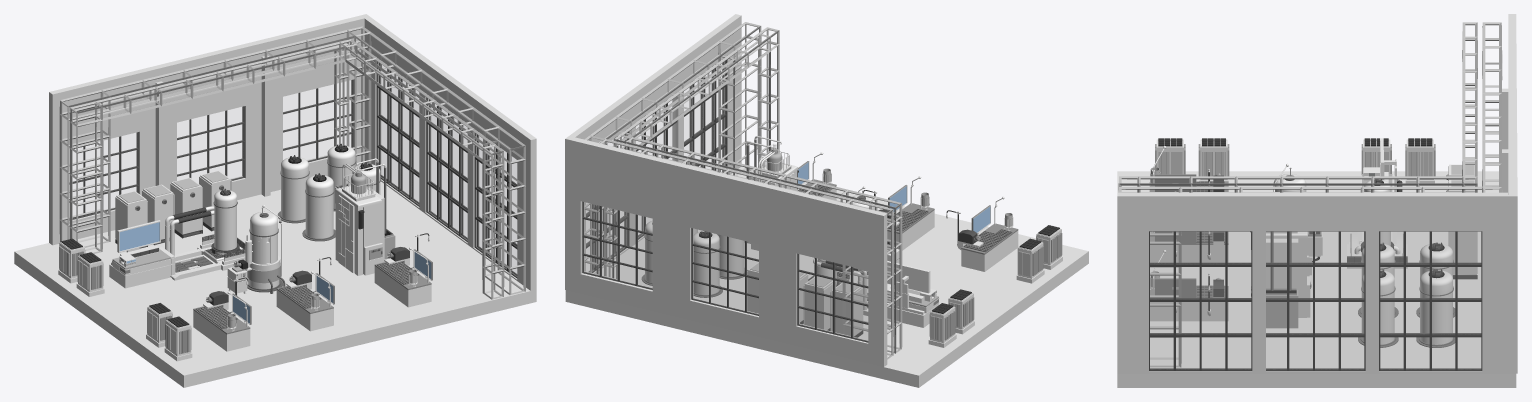
File: FactoryComplex.fbx
The picture shows the model from 3 angles, left to right: view 1: azimuth 30°, elevation 25°; view 2: azimuth 150°, elevation 25°; view 3: azimuth 270°, elevation 25°; orthographic projection. The views are drawn at different scales.
Visible parts, largest first — view 1: Floor, Wall_1, Construct_Misc_1, Wall_2, Wintows_1, Windows_2, CLI-ES-100-ID:1, MCHEM-X200, OP-STATION345-ID:1, B-CHEM-LAB-SR5566-ID:1, B-CHEM-LAB-SR5566-ID:3, B-CHEM-LAB-SR5566-ID:2 (+11 smaller); view 2: Wall_1, Floor, Construct_Misc_1, Wintows_1, Wall_2, Windows_2, CLI-ES-100-ID:1, B-CHEM-LAB-SR5566-ID:1, B-CHEM-LAB-SR5566-ID:2, iBX-LIQ-100-ID:2, MCHEM-X200, ISERV-A150-ID:2 (+9 smaller); view 3: Wall_2, Windows_2, Floor, Construct_Misc_1, Wall_1, MCHEM-X200, B-CHEM-LAB-SR5566-ID:3, B-CHEM-LAB-SR5566-ID:2, iBX-LIQ-100-ID:1, CLI-ES-100-ID:1, ISERV-V350-ID:1, iBX-LIQ-100-ID:3 (+8 smaller).
Boxes of the visible parts, x1=… form: Floor: x1=14, y1=181, x2=536, y2=387; Wall_1: x1=49, y1=14, x2=369, y2=245; Construct_Misc_1: x1=59, y1=26, x2=525, y2=299; Wall_2: x1=364, y1=17, x2=536, y2=290; Wintows_1: x1=73, y1=80, x2=352, y2=215; Windows_2: x1=379, y1=63, x2=516, y2=275; CLI-ES-100-ID:1: x1=109, y1=188, x2=245, y2=288; MCHEM-X200: x1=335, y1=158, x2=395, y2=275; OP-STATION345-ID:1: x1=227, y1=205, x2=285, y2=295; B-CHEM-LAB-SR5566-ID:1: x1=193, y1=277, x2=251, y2=351; B-CHEM-LAB-SR5566-ID:3: x1=374, y1=233, x2=432, y2=307; B-CHEM-LAB-SR5566-ID:2: x1=276, y1=257, x2=334, y2=331; Wall_1: x1=565, y1=136, x2=887, y2=366; Floor: x1=565, y1=166, x2=1088, y2=387; Construct_Misc_1: x1=584, y1=22, x2=902, y2=359; Wintows_1: x1=584, y1=202, x2=867, y2=340; Wall_2: x1=569, y1=14, x2=741, y2=273; Windows_2: x1=586, y1=62, x2=724, y2=271; CLI-ES-100-ID:1: x1=808, y1=257, x2=939, y2=327; B-CHEM-LAB-SR5566-ID:1: x1=946, y1=196, x2=1018, y2=271; B-CHEM-LAB-SR5566-ID:2: x1=863, y1=176, x2=934, y2=250; iBX-LIQ-100-ID:2: x1=693, y1=231, x2=722, y2=297; MCHEM-X200: x1=744, y1=136, x2=798, y2=250; ISERV-A150-ID:2: x1=803, y1=276, x2=836, y2=330; Wall_2: x1=1117, y1=192, x2=1508, y2=373; Windows_2: x1=1150, y1=232, x2=1480, y2=369; Floor: x1=1117, y1=171, x2=1516, y2=387; Construct_Misc_1: x1=1118, y1=22, x2=1502, y2=367; Wall_1: x1=1502, y1=14, x2=1517, y2=373; MCHEM-X200: x1=1250, y1=231, x2=1322, y2=328; B-CHEM-LAB-SR5566-ID:3: x1=1150, y1=250, x2=1228, y2=321; B-CHEM-LAB-SR5566-ID:2: x1=1150, y1=231, x2=1228, y2=262; iBX-LIQ-100-ID:1: x1=1416, y1=269, x2=1455, y2=347; CLI-ES-100-ID:1: x1=1347, y1=138, x2=1407, y2=268; ISERV-V350-ID:1: x1=1405, y1=138, x2=1435, y2=183; iBX-LIQ-100-ID:3: x1=1358, y1=269, x2=1398, y2=347.
Size of the model in its own units: 30 by 13.26 by 25.09.
